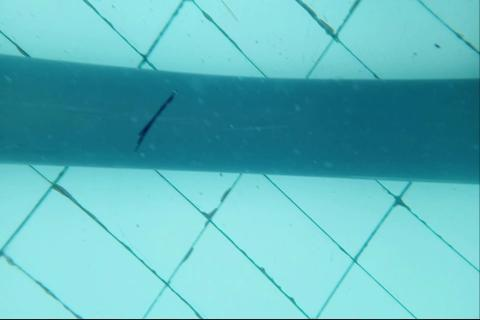keretakan: (136, 87, 177, 149)
